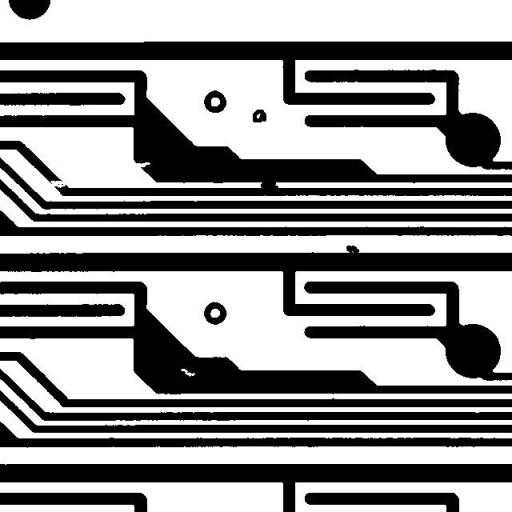copper: (244, 102, 274, 130)
mousebite: (128, 154, 158, 174)
open: (42, 173, 74, 195)
pin-hole: (173, 361, 202, 384)
short: (252, 173, 286, 197)
spur: (338, 238, 366, 266)
